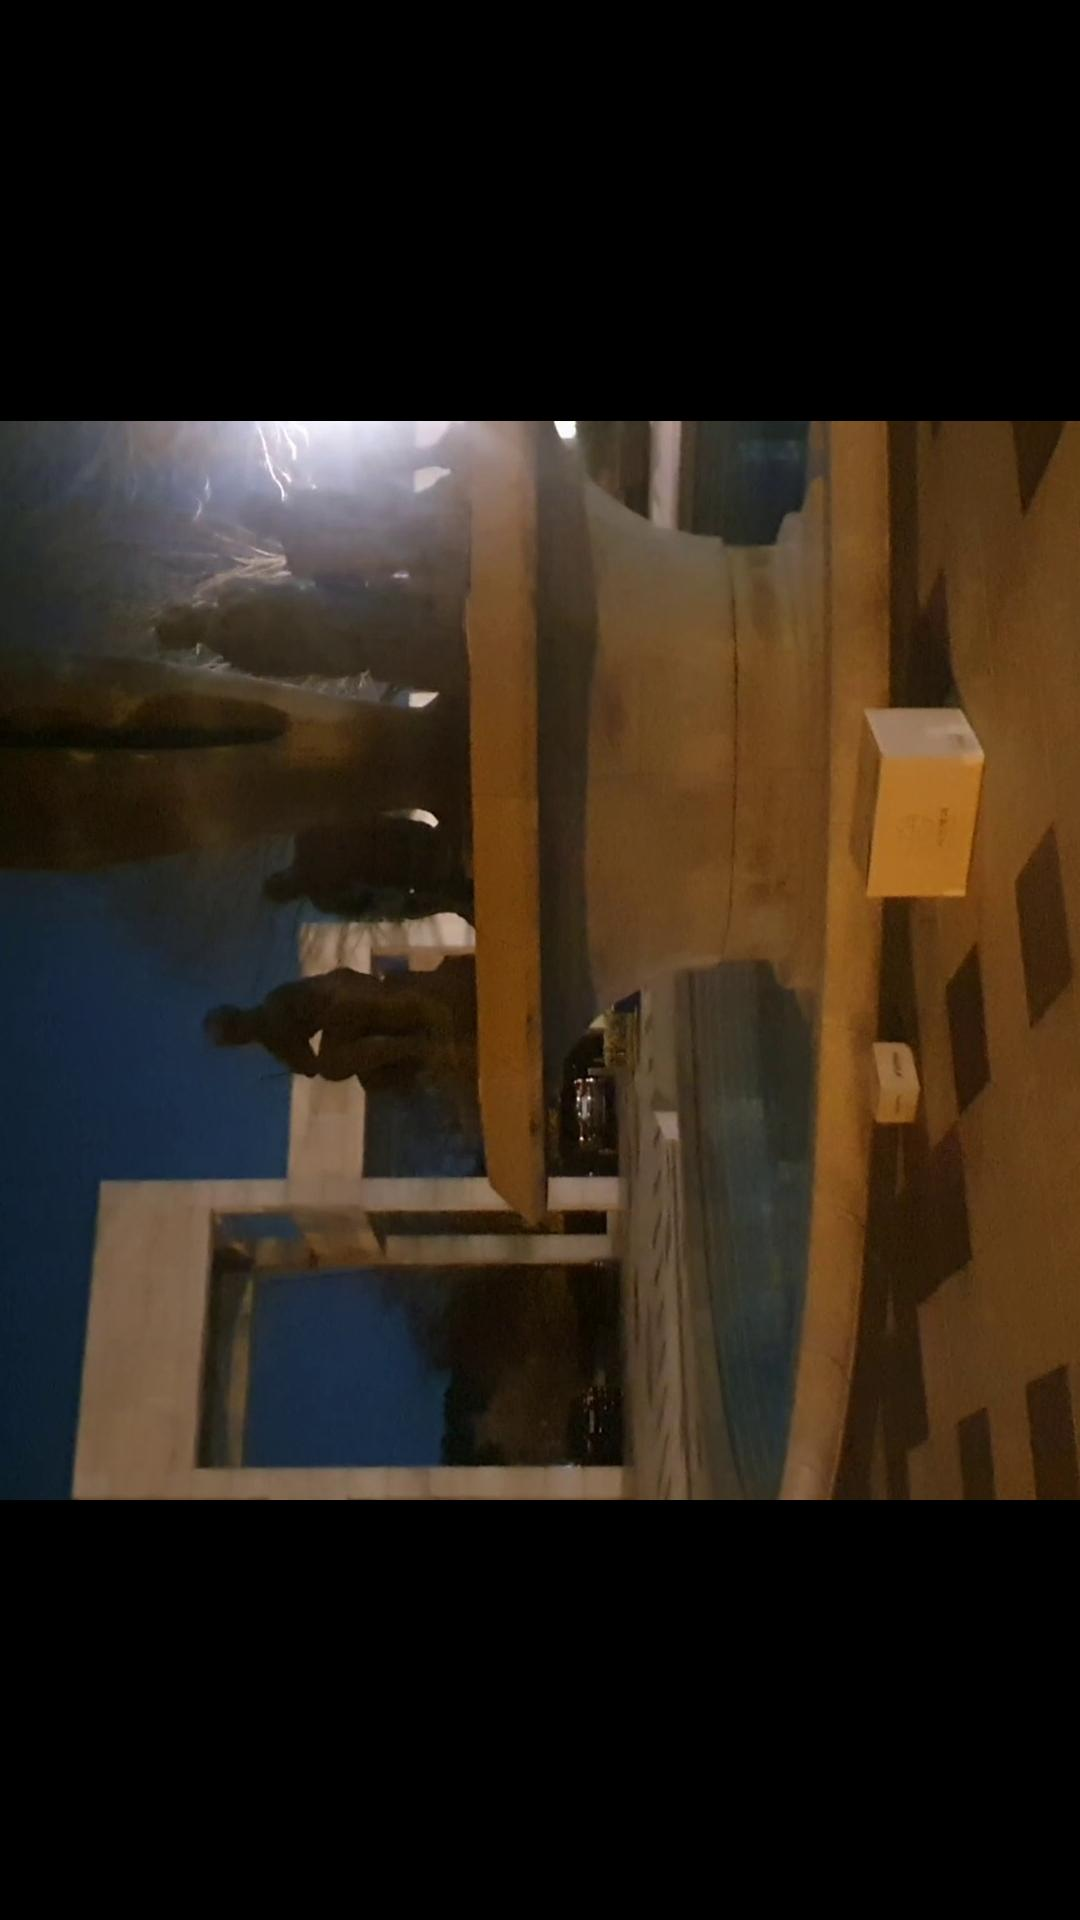Box: (845, 691, 997, 907), (845, 1030, 932, 1153)
